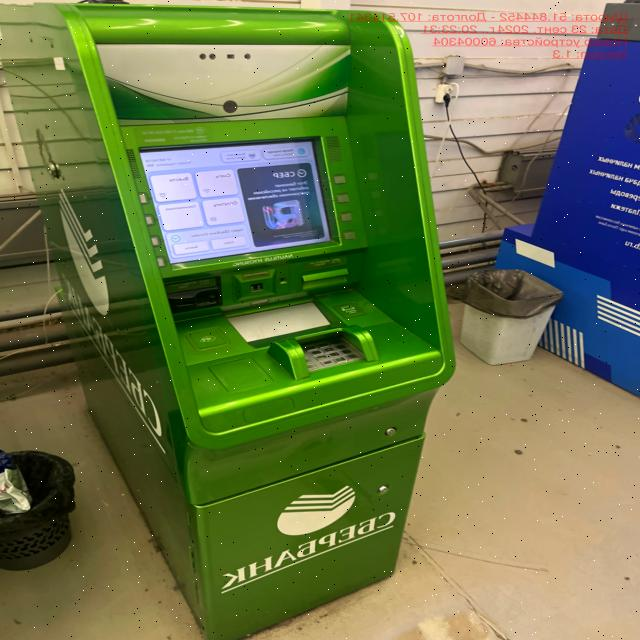bank: (0, 5, 456, 640)
